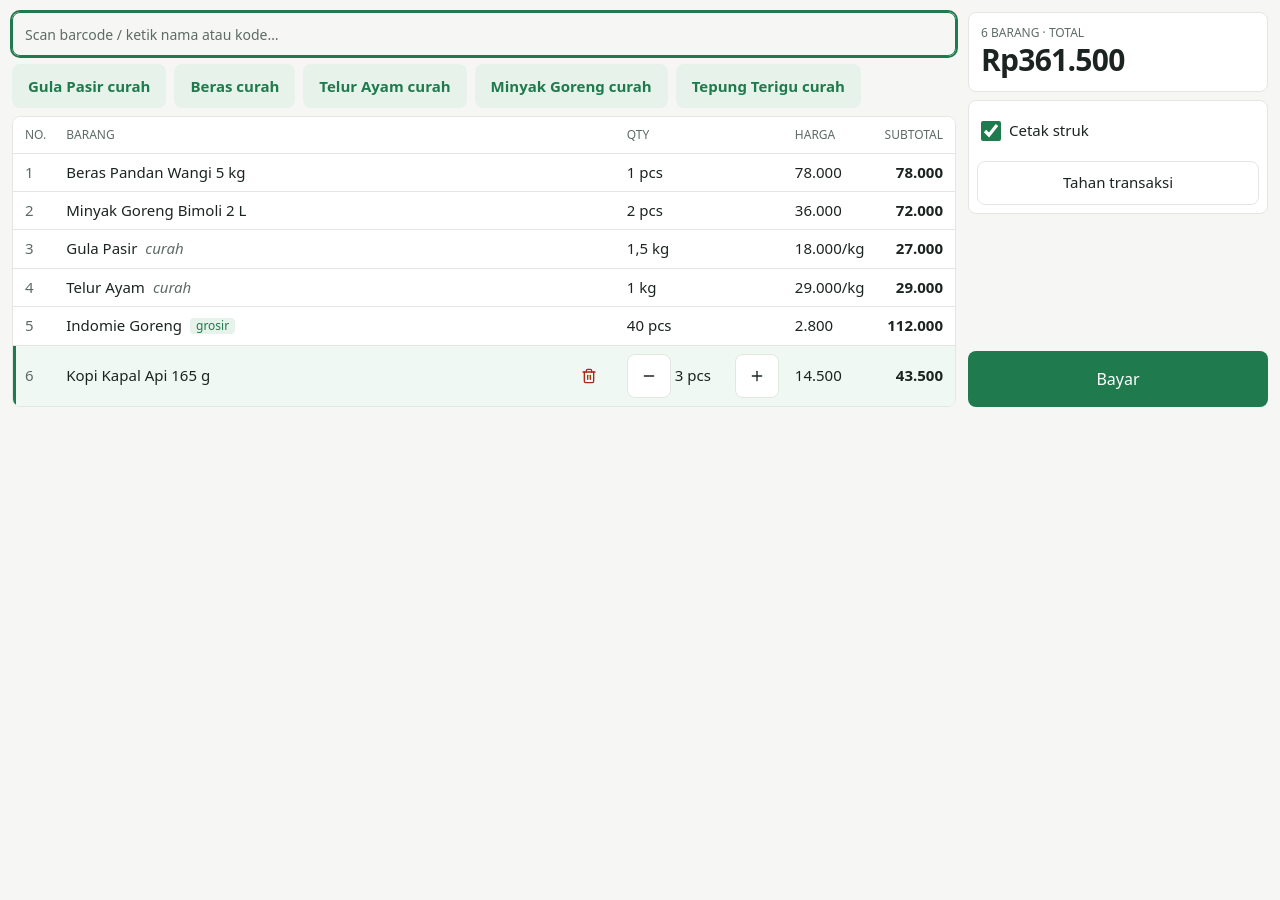
Test case: tombol nominal cepat untuk Rp361.500: Uang pas, 370.000, 400.000, 500.000
The image size is (1280, 900).
Click the button "Bayar" at (1118, 379), box [968,351,1268,407]
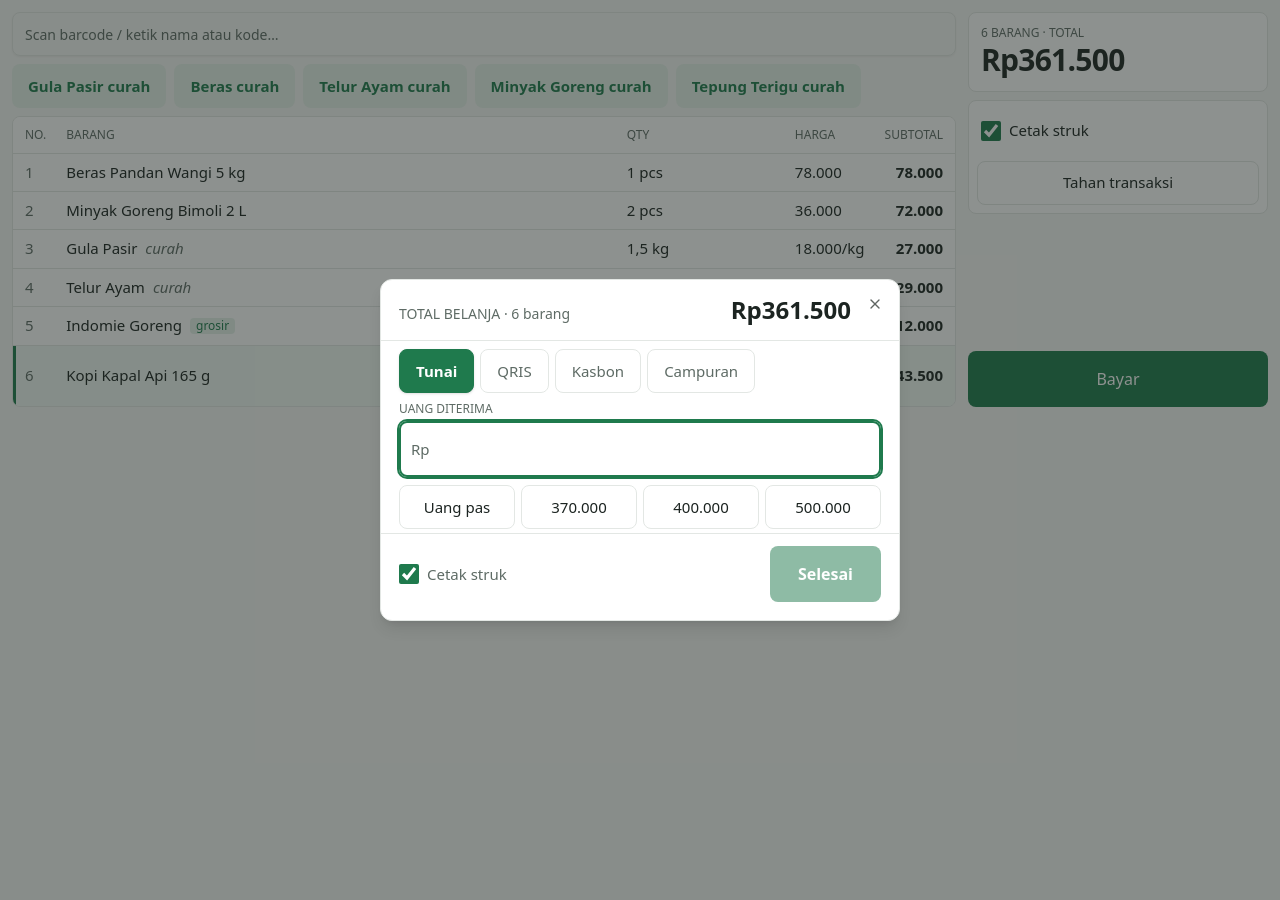
Check: the buttons read "Uang pas", "370.000", "400.000", "500.000", in this order
Click the button "400.000" at (701, 507), box [643,485,759,529]
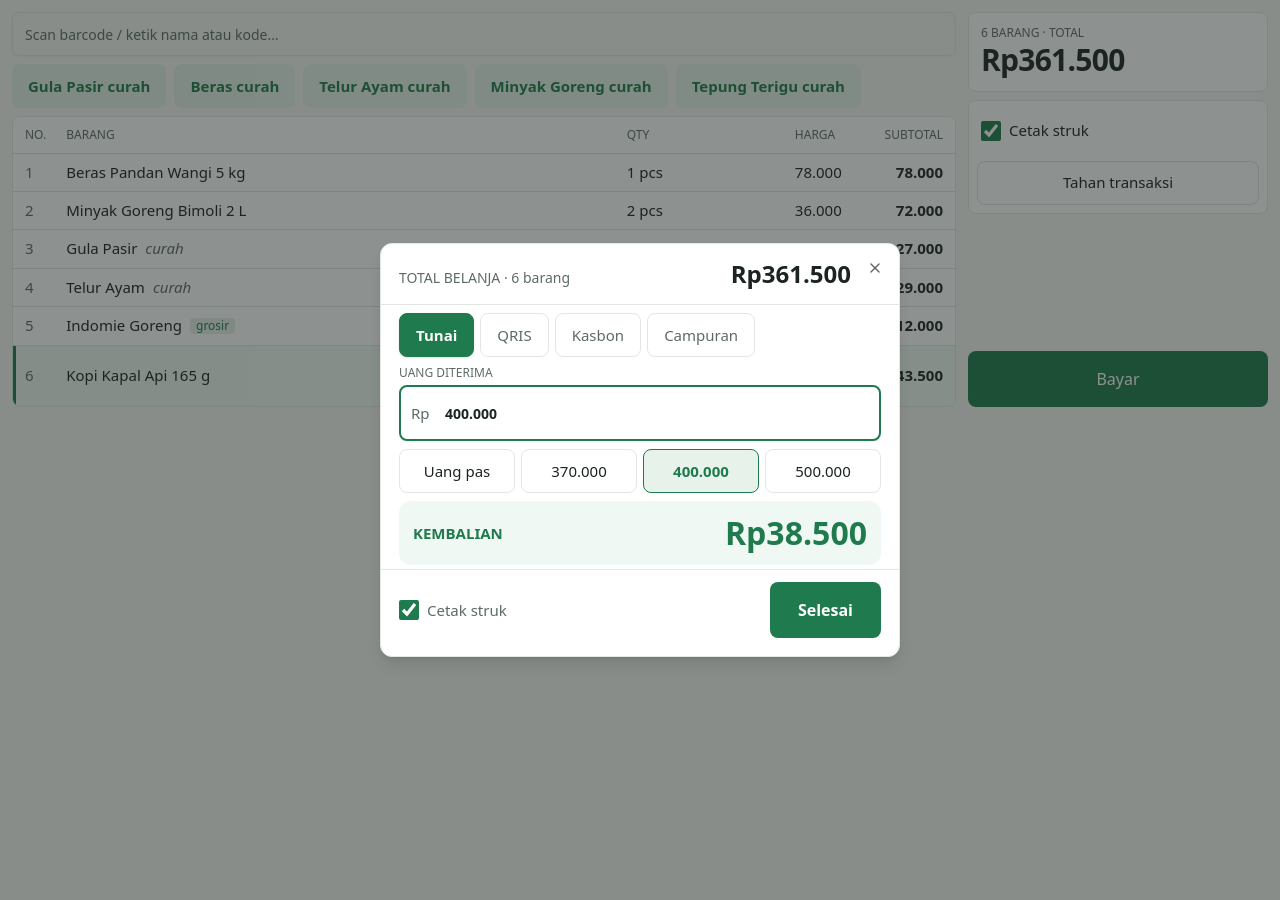
Check: the field labelled "UANG DITERIMA" holds "400.000", box [399,385,881,441]
Check: the text "Rp38.500" is shown, box [725,513,867,553]
Click the button "Uang pas" at (457, 471), box [399,449,515,493]
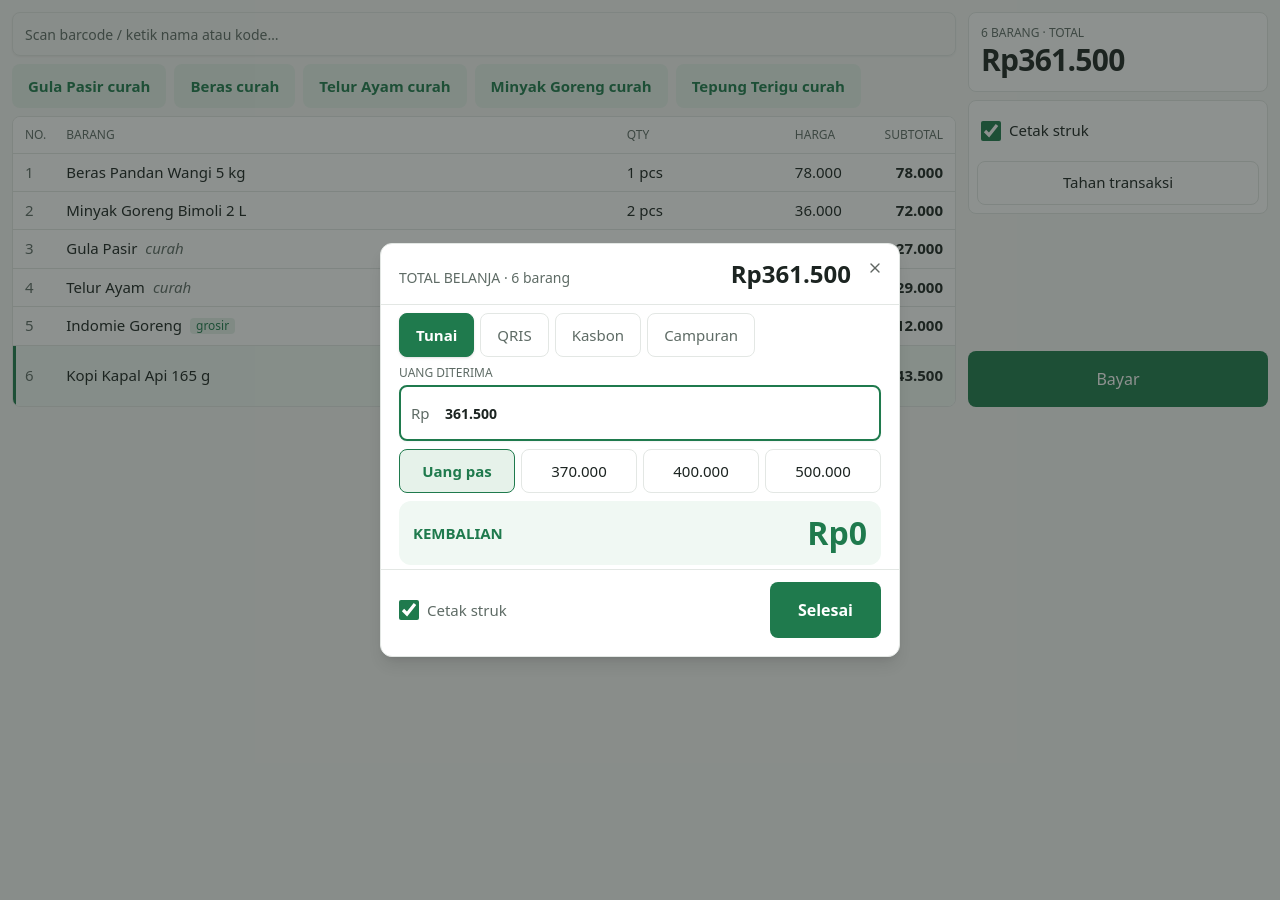
Check: the field labelled "UANG DITERIMA" holds "361.500", box [399,385,881,441]
